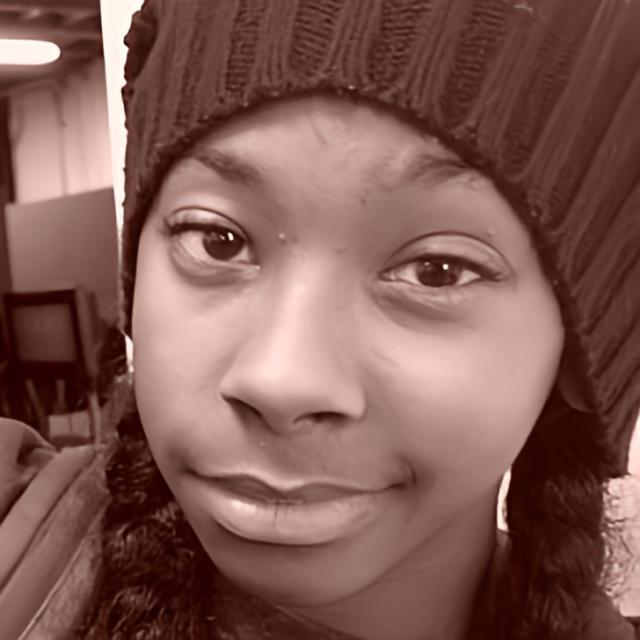content: (129, 86, 562, 608)
